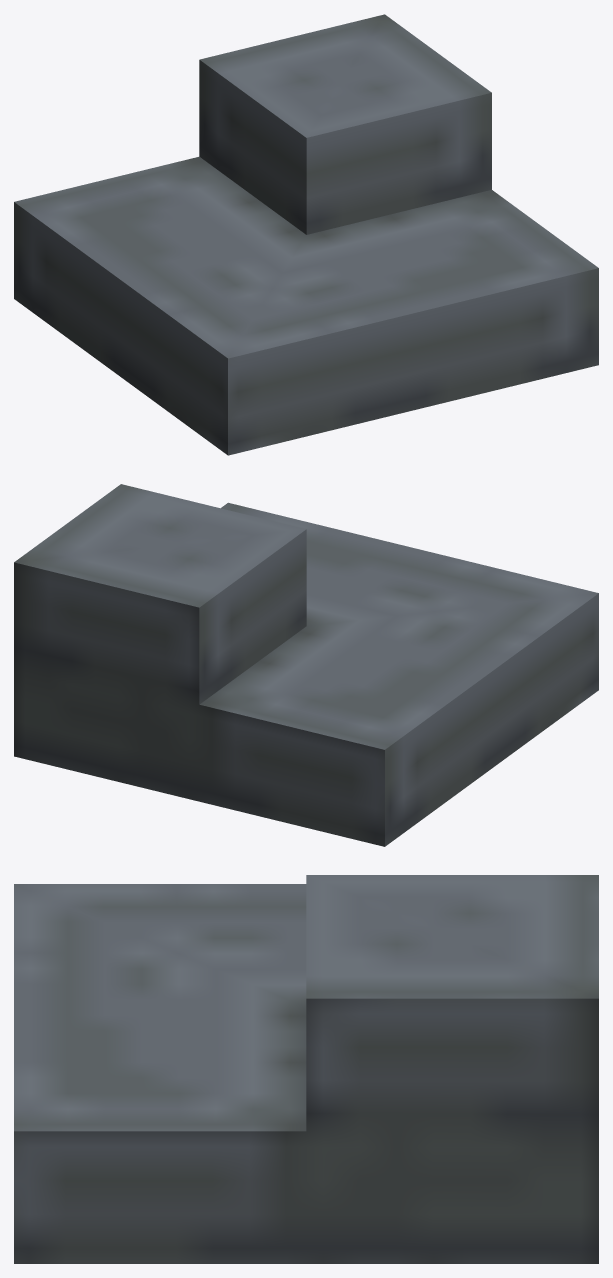
File: stair_corner_convex_blue.fbx
3 views of the same model, one above another, from view 1: azimuth 30°, elevation 25°; view 2: azimuth 150°, elevation 25°; view 3: azimuth 270°, elevation 25° (orthographic). The views are drawn at different scales.
Visible parts, largest first — view 1: stair_corner_convex_blue; view 2: stair_corner_convex_blue; view 3: stair_corner_convex_blue.
Boxes of the visible parts, x1,y1,x2,y2 form: stair_corner_convex_blue: [14, 14, 598, 455]; stair_corner_convex_blue: [14, 484, 598, 846]; stair_corner_convex_blue: [14, 875, 598, 1263].
Bounding box in the file's own units: 16 × 8 × 16.
